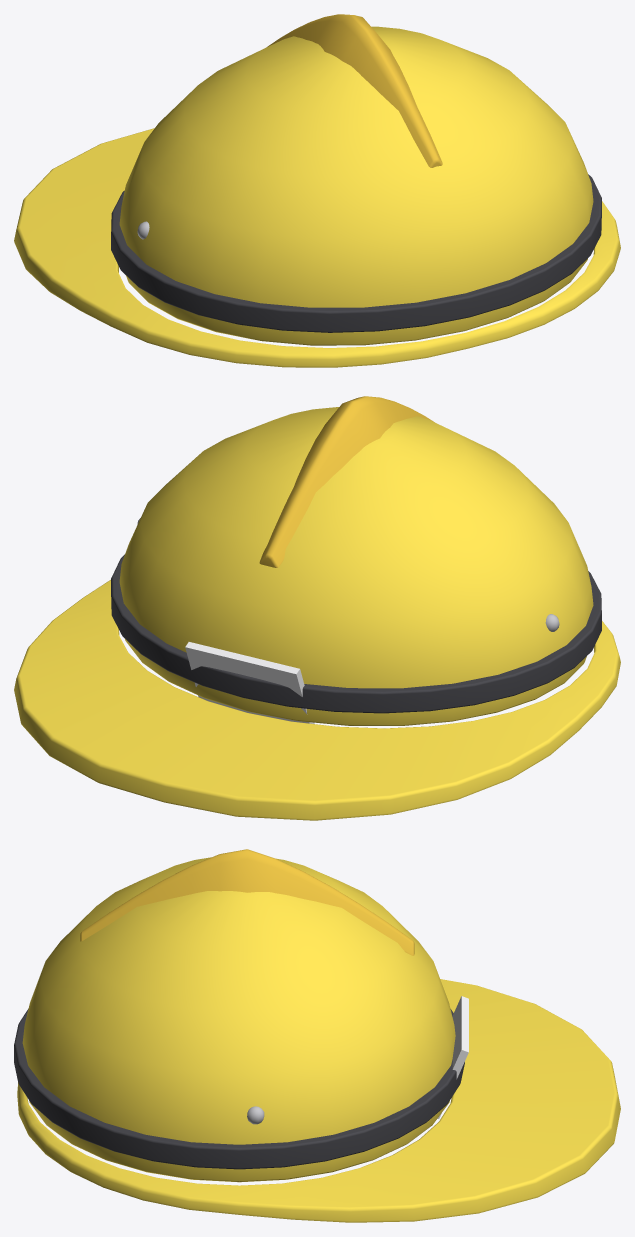
The model's file is hardhat.glb.
3 renders of one model, top to bottom at view 1: azimuth 30°, elevation 25°; view 2: azimuth 150°, elevation 25°; view 3: azimuth 270°, elevation 25°, orthographic.
Parts seen in each view (by area): view 1: HAT_Hardhat_Shell, HAT_Hardhat_Brim, HAT_Hardhat_Band, HAT_Hardhat_Ridge; view 2: HAT_Hardhat_Shell, HAT_Hardhat_Brim, HAT_Hardhat_Band, HAT_Hardhat_Ridge, HAT_Hardhat_Sticker; view 3: HAT_Hardhat_Shell, HAT_Hardhat_Brim, HAT_Hardhat_Band, HAT_Hardhat_Ridge, HAT_Hardhat_Sticker.
Boxes of the visible parts, box(x1,y1,x2,y2) form: HAT_Hardhat_Shell: box(119, 26, 593, 345); HAT_Hardhat_Brim: box(14, 128, 620, 367); HAT_Hardhat_Band: box(111, 174, 601, 332); HAT_Hardhat_Ridge: box(267, 14, 442, 167); HAT_Hardhat_Shell: box(119, 407, 593, 725); HAT_Hardhat_Brim: box(14, 580, 620, 820); HAT_Hardhat_Band: box(111, 554, 601, 713); HAT_Hardhat_Ridge: box(259, 396, 434, 567); HAT_Hardhat_Sticker: box(185, 642, 314, 723); HAT_Hardhat_Shell: box(22, 857, 455, 1182); HAT_Hardhat_Brim: box(17, 979, 620, 1222); HAT_Hardhat_Band: box(14, 1008, 464, 1169); HAT_Hardhat_Ridge: box(80, 849, 414, 955); HAT_Hardhat_Sticker: box(437, 996, 468, 1118).
Bounding box in the file's own units: 0.7208 × 0.3625 × 0.7626.
